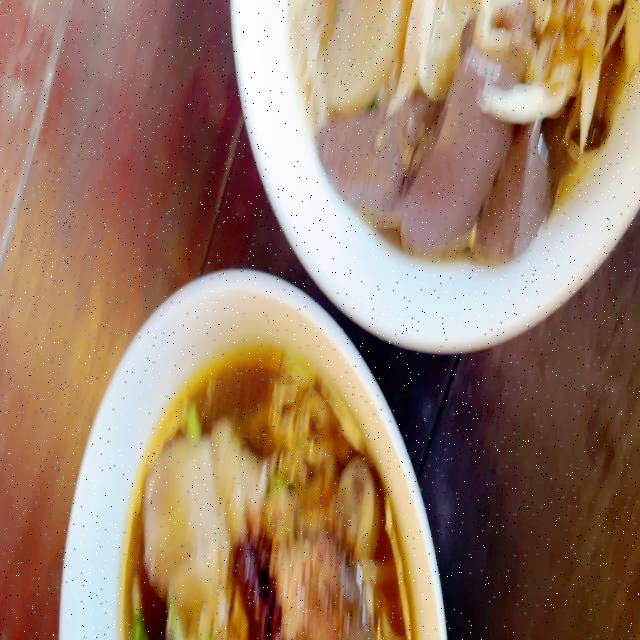boiled_chicken_blood_jelly: (405, 66, 516, 244), (307, 103, 406, 215), (496, 120, 545, 258)
chicken_drumstick: (143, 439, 383, 579)
chicken_shredded: (494, 0, 603, 139)
daikon_radish: (321, 0, 400, 103)
noodle: (244, 0, 640, 266), (112, 332, 411, 640)
